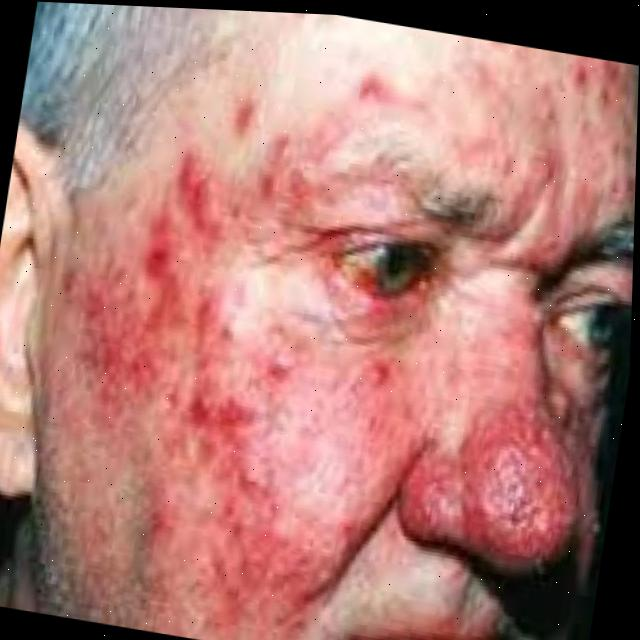Rosacea: (62, 152, 386, 590), (372, 24, 640, 218), (438, 391, 579, 549)
